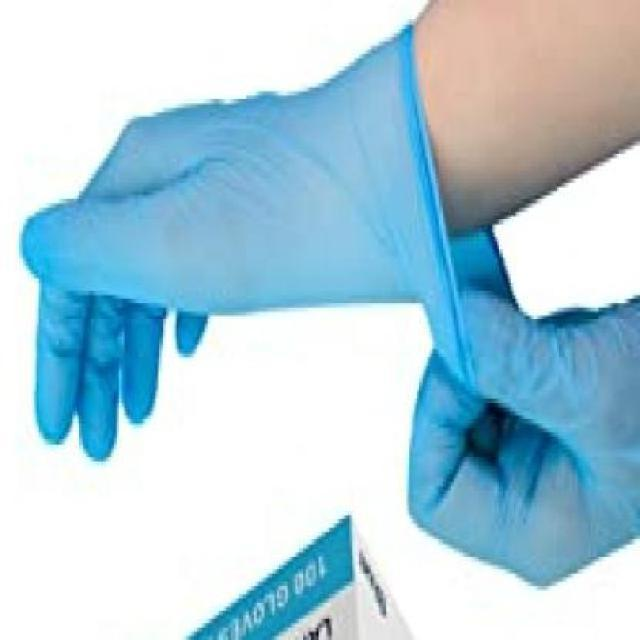gloved_hand: (10, 39, 468, 458), (389, 200, 640, 586)
